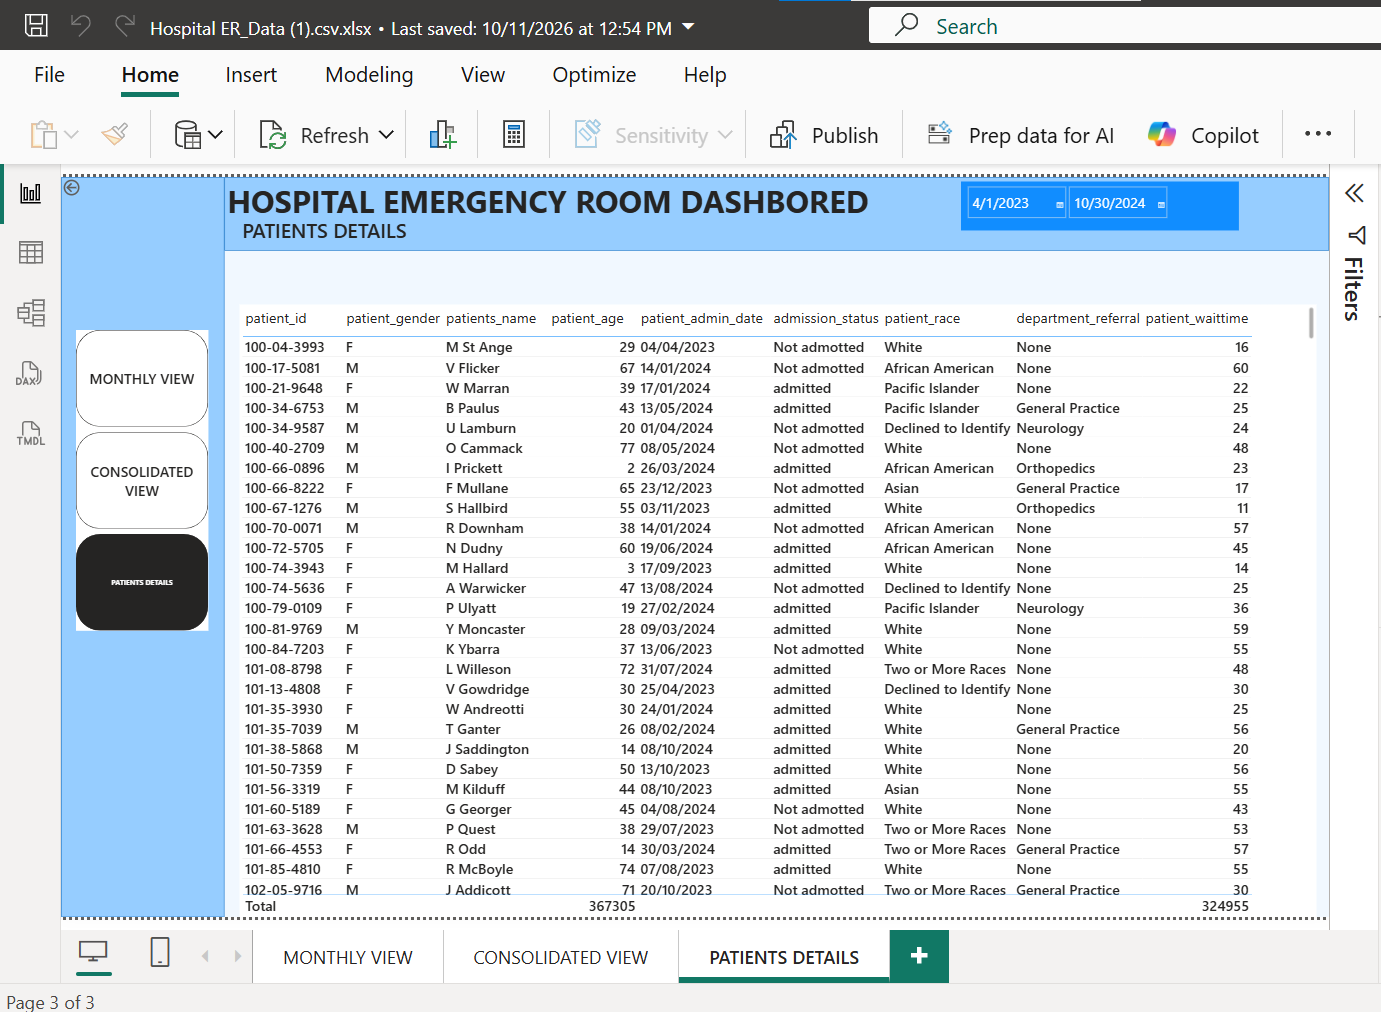

The dashboard page shown, as its layout file describes it:
{"tool":"powerbi","page":{"name":"PATIENTS DETAILS","canvas":[2400,1400],"ordinal":2},"visuals":[{"type":"shape","box":[0,0,309.3,1401.1],"z":0},{"type":"shape","box":[309.3,0,2090.8,139.2],"z":1000},{"type":"textbox","box":[309.3,0,1323.7,111.3],"z":2000},{"type":"textbox","box":[337.1,71.1,374.2,68],"z":3000},{"type":"slicer","fields":{"Values":["dim_date.Date"]},"box":[1704.2,9.3,525.8,92.8],"z":4000},{"type":"tableEx","fields":{"Values":["Hospital_ER_Data.patient_id","Hospital_ER_Data.patient_gender","Hospital_ER_Data.patients_full_name","Sum(Hospital_ER_Data.patient_age)","Hospital_ER_Data.patient_admin_date","Hospital_ER_Data.admission_status","Hospital_ER_Data.patient_race","Hospital_ER_Data.department_referral","Sum(Hospital_ER_Data.patient_waittime)"]},"box":[337.1,241.2,2038.2,1159.8],"z":5000},{"type":"actionButton","box":[0,0,100,40],"z":6000},{"type":"pageNavigator","title":"Monthly View","box":[27.8,290.7,250.5,569.1],"z":6001}]}

Visuals, with their boxes on the page's 2400x1400 design canvas (x1, y1, x2, y2). These are canvas units, not pixel positions in the 1381x1012 screenshot, which may show the page scaled, cropped or inside an application window:
shape: 0, 0, 309, 1401
shape: 309, 0, 2400, 139
textbox: 309, 0, 1633, 111
textbox: 337, 71, 711, 139
slicer - dim_date.Date: 1704, 9, 2230, 102
tableEx - Hospital_ER_Data.patient_id x Hospital_ER_Data.patient_gender: 337, 241, 2375, 1401
actionButton: 0, 0, 100, 40
"Monthly View" pageNavigator: 28, 291, 278, 860
